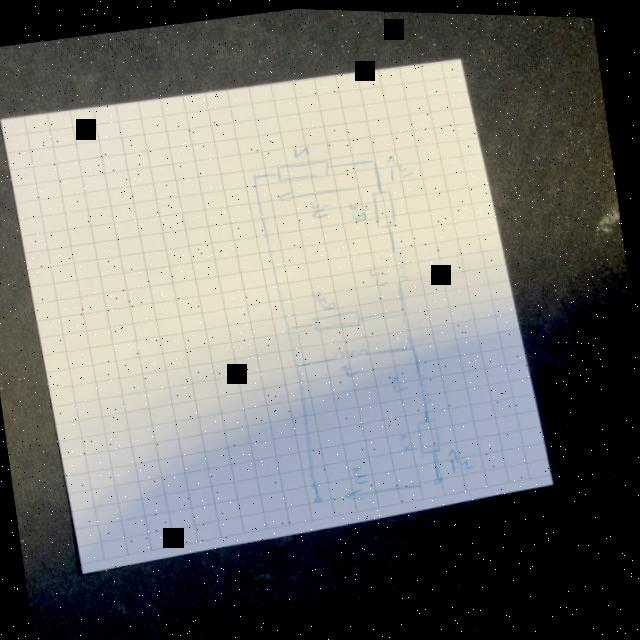inductor: (416, 369, 435, 405), (333, 342, 371, 360), (392, 247, 411, 282)
junction: (400, 305, 411, 314), (250, 170, 261, 179), (291, 360, 302, 368), (409, 343, 420, 351), (284, 322, 295, 330), (368, 155, 379, 163)
resistor: (274, 153, 332, 184), (311, 307, 364, 332), (371, 187, 399, 228), (416, 415, 445, 453)
terminal: (433, 472, 446, 484), (312, 492, 325, 503)
text: (311, 286, 338, 311), (347, 197, 372, 223), (368, 263, 392, 287), (308, 196, 333, 219), (339, 359, 365, 377), (387, 372, 410, 392), (351, 462, 370, 485), (399, 428, 418, 450), (396, 158, 415, 176), (460, 455, 478, 469), (292, 144, 311, 157)
